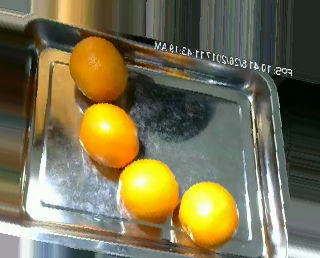Orange: (178, 179, 240, 247), (78, 102, 139, 169), (117, 158, 179, 223), (68, 36, 127, 102)
